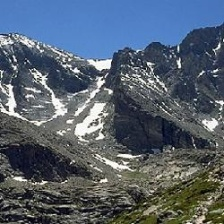neutral: (6, 3, 223, 224)
